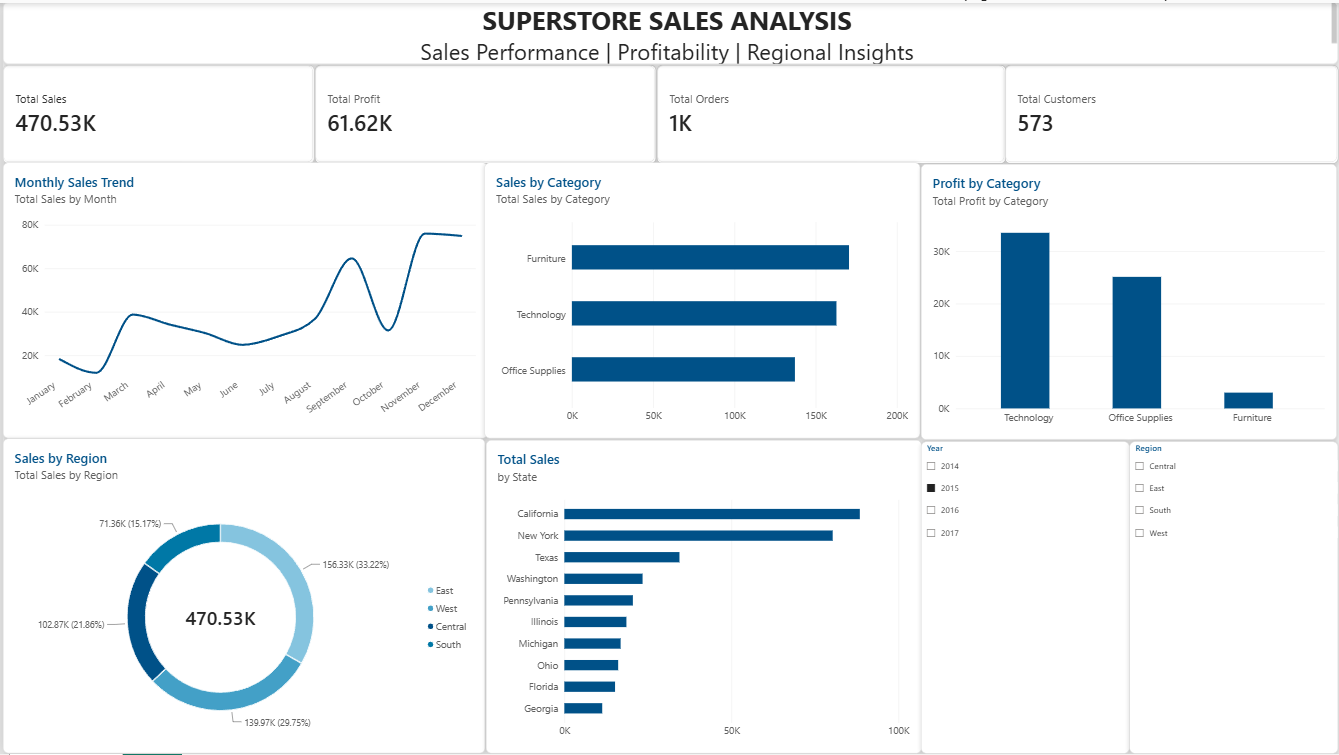

This screenshot's page, from the dashboard's own definition file:
{"tool":"powerbi","page":{"name":"Page 1","canvas":[1920,1080],"ordinal":0},"visuals":[{"type":"cardVisual","fields":{"Data":["Orders.Total Sales"]},"box":[0,89.7,447.9,141.7],"z":0},{"type":"cardVisual","fields":{"Data":["Orders.Total Profit"]},"box":[448.3,89.7,490.4,141.7],"z":1000},{"type":"cardVisual","fields":{"Data":["Orders.Total Orders"]},"box":[940.3,89.7,501.7,141.7],"z":2000},{"type":"cardVisual","fields":{"Data":["Orders.Total Customers"]},"box":[1441.1,89.7,479.1,141.7],"z":3000},{"type":"lineChart","title":"Monthly Sales Trend","fields":{"Category":["Orders.Order Date.Variation.Date Hierarchy.Month"],"Y":["Orders.Total Sales"]},"box":[0,231.8,697.3,396.9],"z":4000},{"type":"clusteredBarChart","title":"Sales by Category","fields":{"Category":["Orders.Category"],"Y":["Orders.Total Sales"]},"box":[693.2,231.8,626.5,396.9],"z":5000},{"type":"clusteredColumnChart","title":"Profit by Category","fields":{"Category":["Orders.Category"],"Y":["Orders.Total Profit"]},"box":[1320.8,234,598.1,396.9],"z":6000},{"type":"donutChart","title":"Sales by Region","fields":{"Category":["Orders.Region"],"Y":["Orders.Total Sales"]},"box":[0,627.6,693.2,452.7],"z":7000},{"type":"clusteredBarChart","fields":{"Category":["Orders.State"],"Y":["Orders.Total Sales"]},"box":[694.5,629.3,626.5,450.7],"z":8000},{"type":"slicer","fields":{"Values":["Orders.Order Date.Variation.Date Hierarchy.Year"]},"box":[1320.2,632.1,299.8,448.7],"z":9000},{"type":"slicer","fields":{"Values":["Orders.Region"]},"box":[1620,632.1,299.8,448.7],"z":10000},{"type":"textbox","box":[0,0,1920,89.7],"z":11000}]}

Visuals, with their boxes in screenshot pixels (x1, y1, x2, y2), scaled from the page's 1920x1080 canvas onto the 1339x755 screenshot:
cardVisual - Orders.Total Sales: Rect(0, 63, 312, 162)
cardVisual - Orders.Total Profit: Rect(313, 63, 655, 162)
cardVisual - Orders.Total Orders: Rect(656, 63, 1006, 162)
cardVisual - Orders.Total Customers: Rect(1005, 63, 1338, 162)
"Monthly Sales Trend" lineChart: Rect(0, 162, 486, 440)
"Sales by Category" clusteredBarChart: Rect(483, 162, 920, 440)
"Profit by Category" clusteredColumnChart: Rect(921, 164, 1338, 441)
"Sales by Region" donutChart: Rect(0, 439, 483, 754)
clusteredBarChart - Orders.State x Orders.Total Sales: Rect(484, 440, 921, 754)
slicer - Orders.Order Date.Variation.Date Hierarchy.Year: Rect(921, 442, 1130, 754)
slicer - Orders.Region: Rect(1130, 442, 1338, 754)
textbox: Rect(0, 0, 1338, 63)
